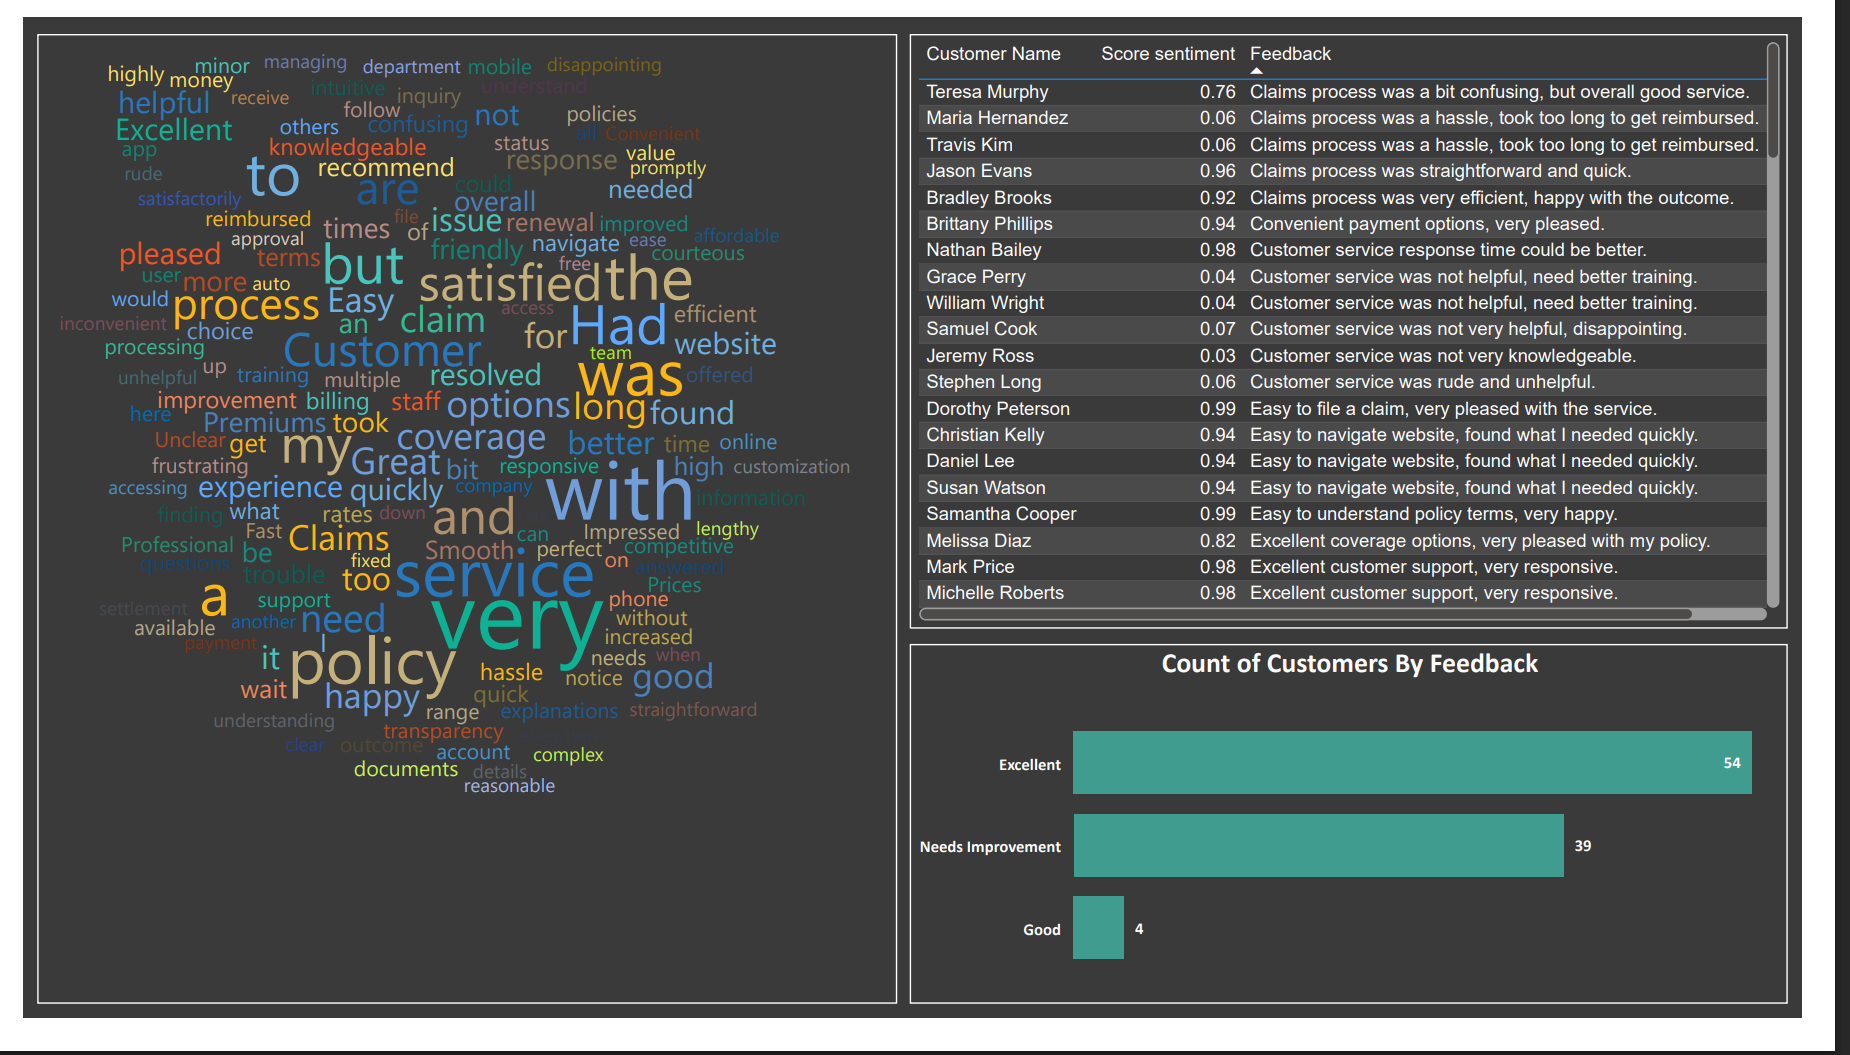

The page's visual inventory and layout, read from the dashboard file:
{"tool":"powerbi","page":{"name":"Customer Reports","canvas":[1280,720],"ordinal":2},"visuals":[{"type":"WordCloud1447959067750","fields":{"Category":["Sheet1.Feedback"],"Values":["CountNonNull(Sheet1.Feedback)"]},"box":[10,12.3,618.6,697.9],"z":0},{"type":"barChart","title":"Count of Customers By Feedback","fields":{"Category":["Sheet1.Good/Improvement"],"Y":["CountNonNull(Sheet1.Customer Name)"]},"box":[637.6,451.1,632,259.1],"z":1000},{"type":"tableEx","fields":{"Values":["Sheet1.Customer Name","Sheet1.Score sentiment","Sheet1.Feedback"]},"box":[637.6,12.3,632,427.7],"z":2000}]}

Visuals, with their boxes in screenshot pixels (x1, y1, x2, y2), scaled from the page's 1280x720 canvas onto the 1850x1055 screenshot:
WordCloud1447959067750 - Sheet1.Feedback x CountNonNull(Sheet1.Feedback): rect(14, 18, 909, 1041)
"Count of Customers By Feedback" barChart: rect(922, 661, 1835, 1041)
tableEx - Sheet1.Customer Name x Sheet1.Score sentiment: rect(922, 18, 1835, 645)
